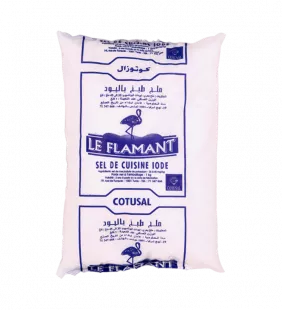LE FLAMANT: (45, 20, 236, 285)
